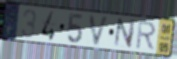3: (20, 8, 37, 39)
4: (40, 10, 57, 43)
5: (67, 12, 85, 44)
N: (112, 17, 137, 50)
R: (134, 20, 158, 52)
V: (88, 14, 111, 48)
